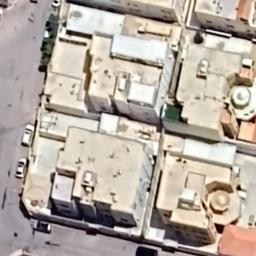SUV: (22, 123, 36, 148)
sedan: (15, 156, 27, 180), (51, 0, 61, 6)
unknown: (30, 218, 52, 234)
